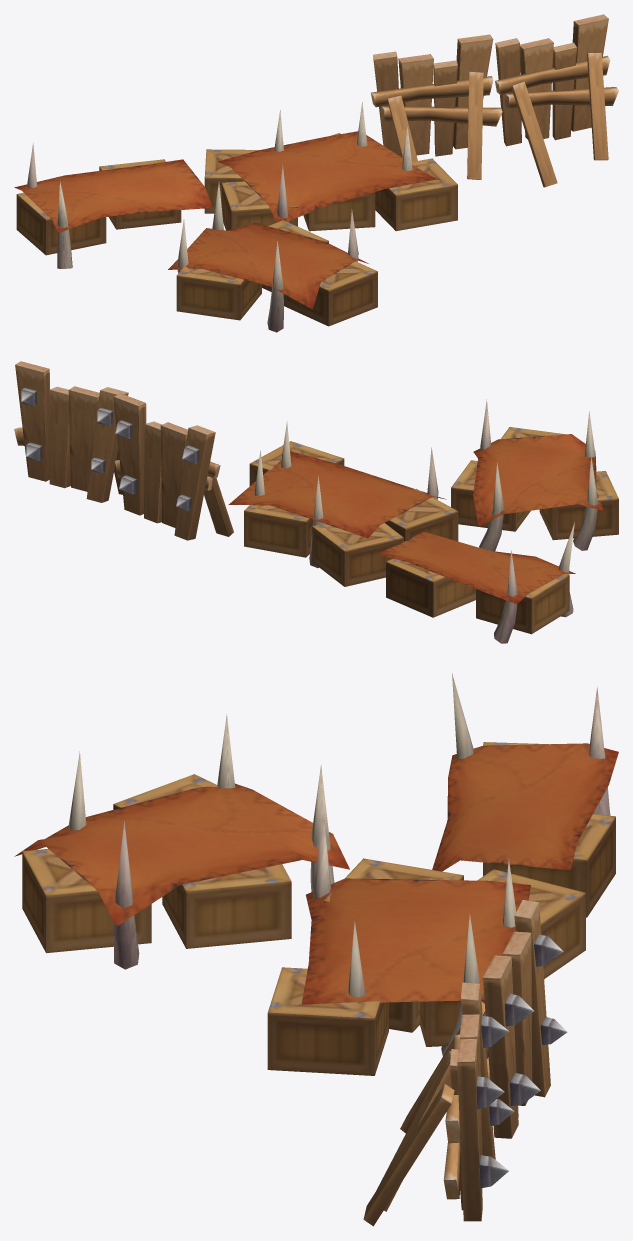
The model's file is area_06_26.fbx.
3 renders of one model, top to bottom at view 1: azimuth 30°, elevation 25°; view 2: azimuth 150°, elevation 25°; view 3: azimuth 270°, elevation 25°, orthographic. The views are drawn at different scales.
Parts seen in each view (by area): view 1: area_06_26; view 2: area_06_26; view 3: area_06_26.
Part boxes in pixels (x1,y1,x2,y2): area_06_26: (14,14,618,332); area_06_26: (14,361,618,643); area_06_26: (14,673,618,1226).
Size of the model in its own units: 17.95 by 3.99 by 10.42.
